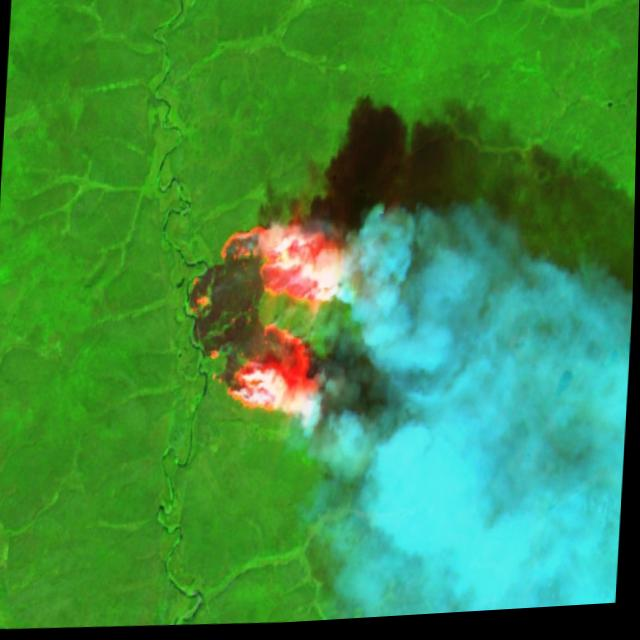fire: (175, 209, 370, 450)
